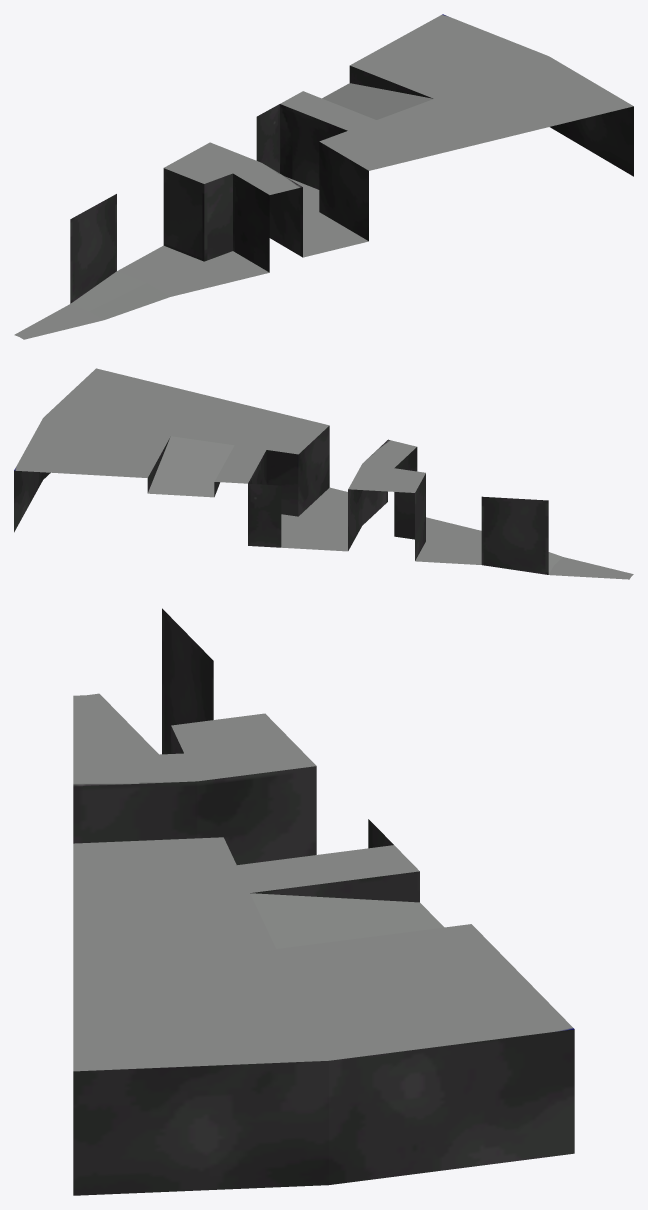
The model's file is bottom_04.obj.
3 views of the same model, one above another, from view 1: azimuth 30°, elevation 25°; view 2: azimuth 150°, elevation 25°; view 3: azimuth 270°, elevation 25° (orthographic). The views are drawn at different scales.
Visible parts, largest first — view 1: Cylinder.011; view 2: Cylinder.011; view 3: Cylinder.011.
Part boxes in pixels (x1,y1,x2,y2): Cylinder.011: (14, 14, 633, 339); Cylinder.011: (14, 368, 633, 579); Cylinder.011: (73, 608, 574, 1195).
Size of the model in its own units: 36.36 by 4.8 by 14.62.
